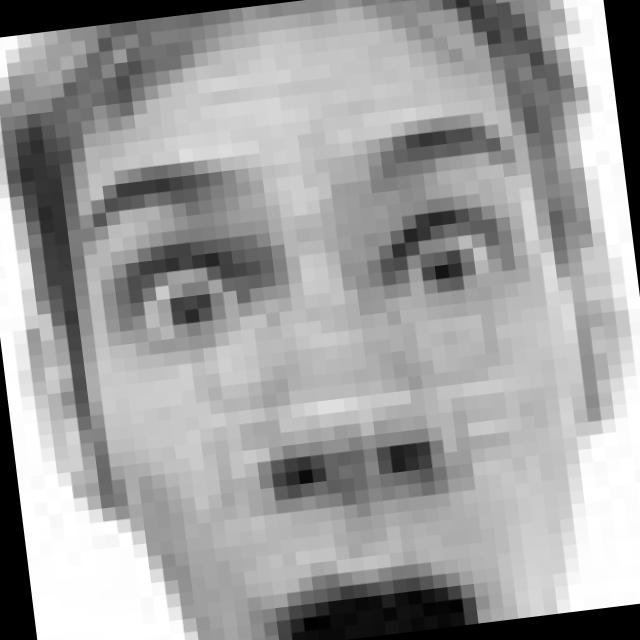surprise: (67, 105, 574, 640)
